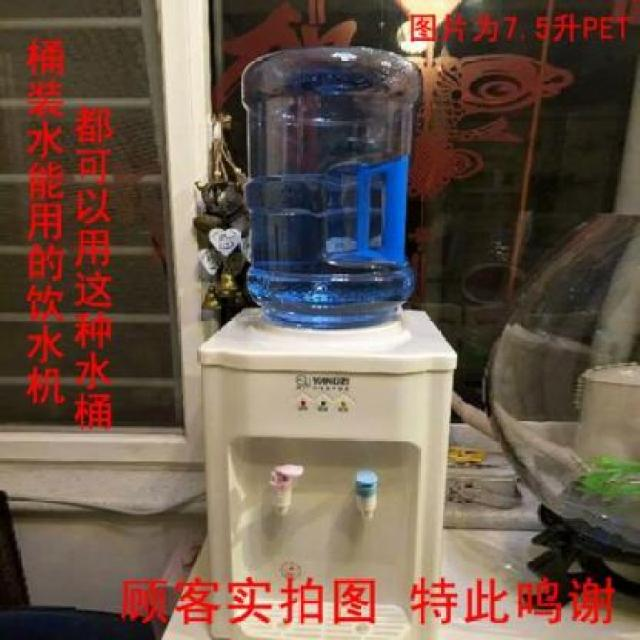coolerbottle: (237, 39, 425, 332)
